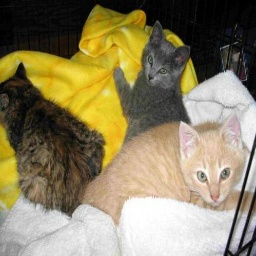cat: (0, 16, 249, 212)
